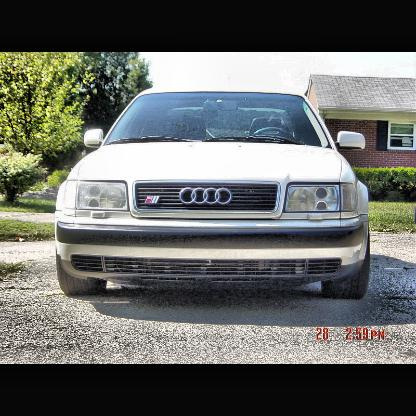Audi V8 Sedan 1994: (56, 90, 370, 302)
